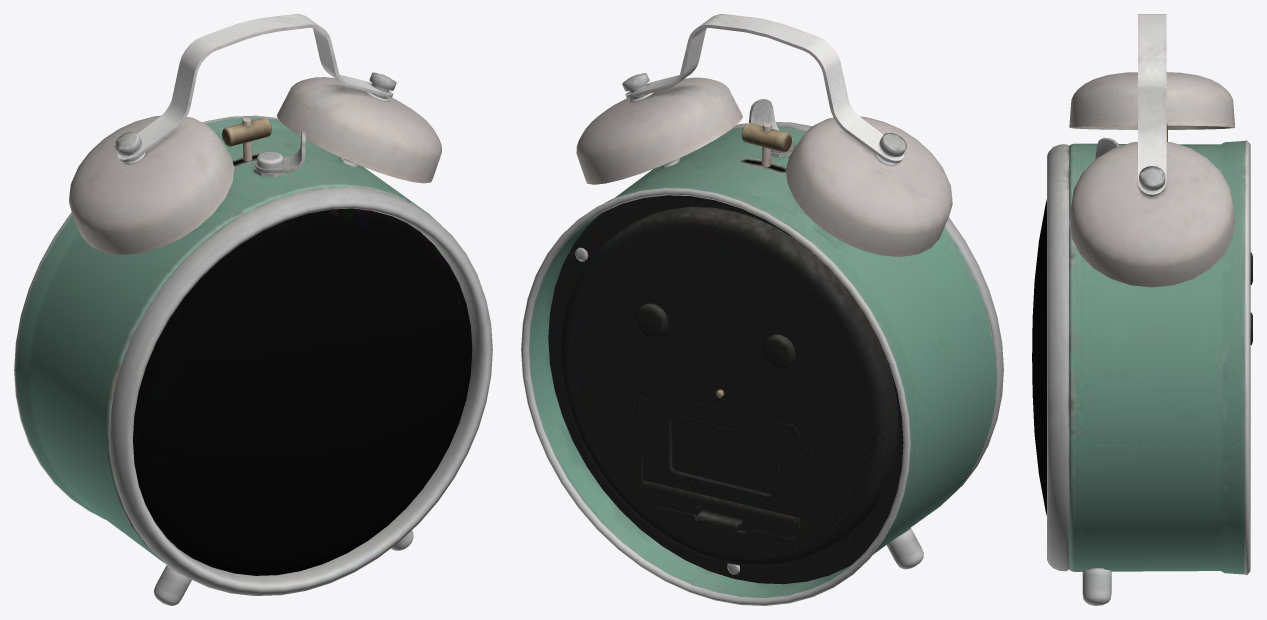
The model's file is alarm_clock_01.glb.
3 views of the same model, side by side, from view 1: azimuth 30°, elevation 25°; view 2: azimuth 150°, elevation 25°; view 3: azimuth 270°, elevation 25° (orthographic). The views are drawn at different scales.
Visible parts, largest first — view 1: alarm_clock_01; view 2: alarm_clock_01; view 3: alarm_clock_01.
Boxes of the visible parts, bbox=[...] form: alarm_clock_01: bbox=[14, 14, 492, 605]; alarm_clock_01: bbox=[521, 14, 1003, 605]; alarm_clock_01: bbox=[1032, 14, 1252, 605].
Size of the model in its own units: 0.1316 by 0.1741 by 0.0667.
2 materials, 2 textured.
